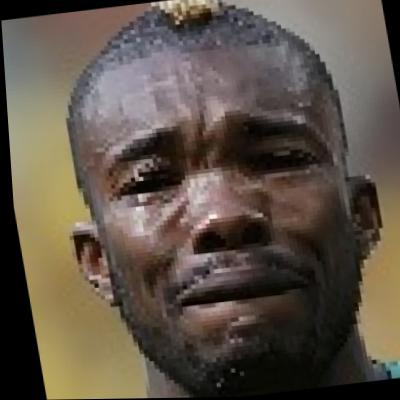sad: (46, 0, 381, 399)
